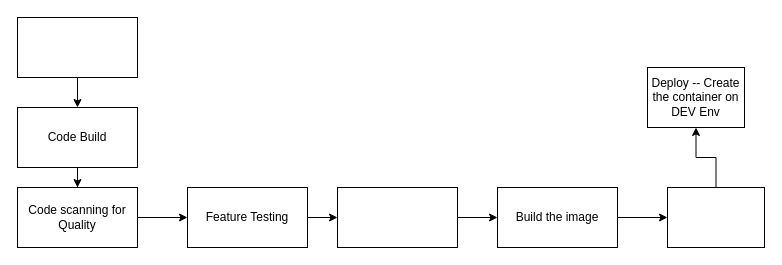
Some shapes in this 782 by 265 pixel diagram are drawn without their labels. The centre of each missing label's shape, as x and y in pixels:
"code pushed to github" goes at point 77,47.
"Push the Built file to Artifactory" goes at point 397,217.
"push the image to ECR" goes at point 715,217.
